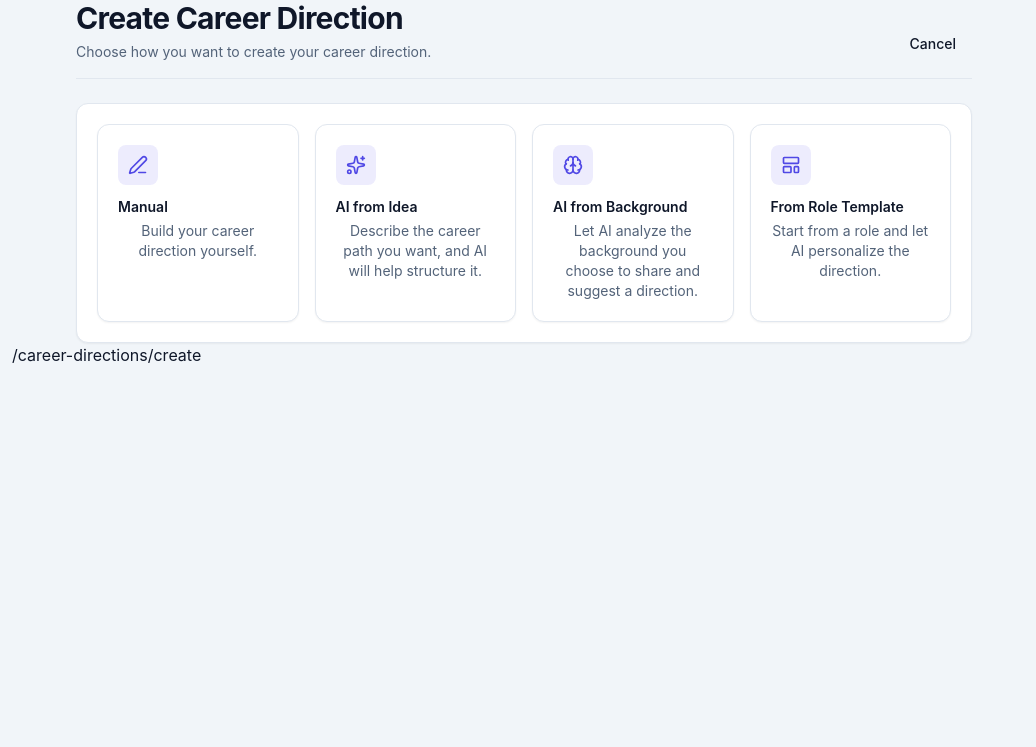
CareerDirectionCreatePage › blocks generate when template role is empty
Click the radio button labelled "From Role Template": (850, 223) [750,124,951,322]
(page scrolled)
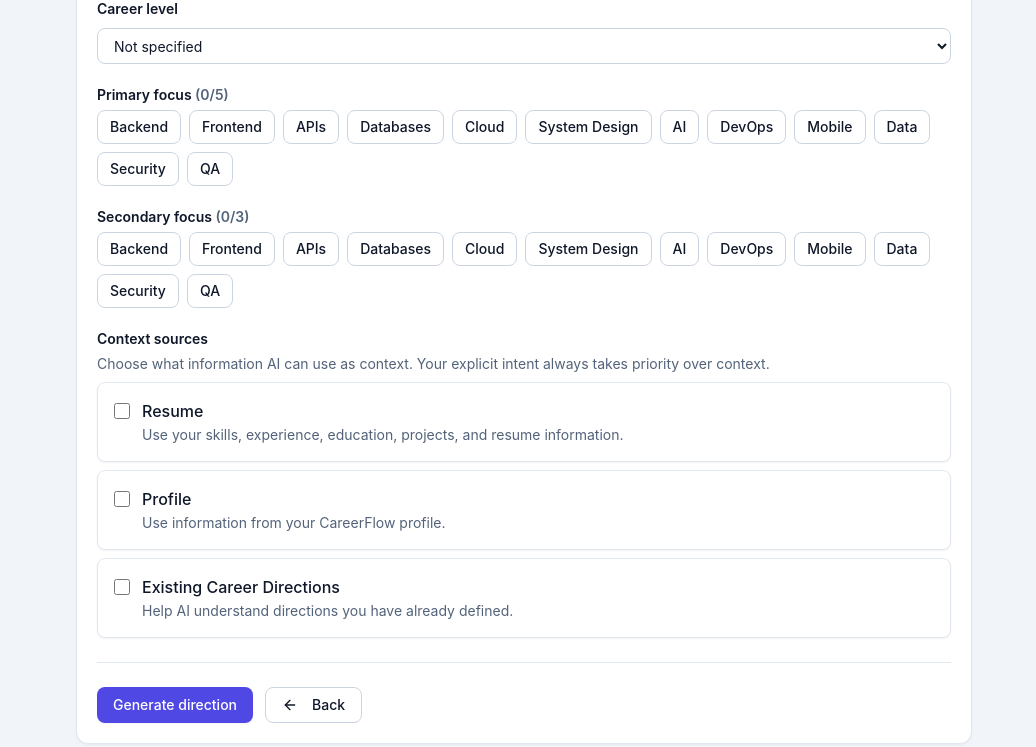
Click the button "Generate direction": (175, 705) [97,687,253,723]
(page scrolled)
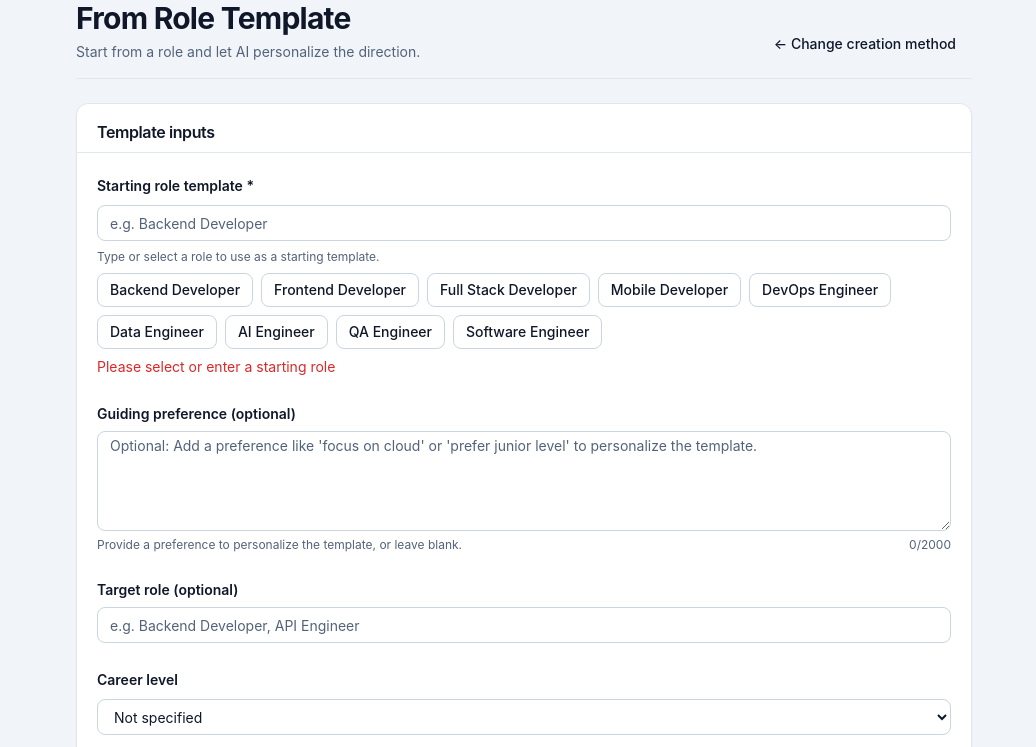
Result: the text "Please select or enter a starting role" is shown at [97,358,335,375]
